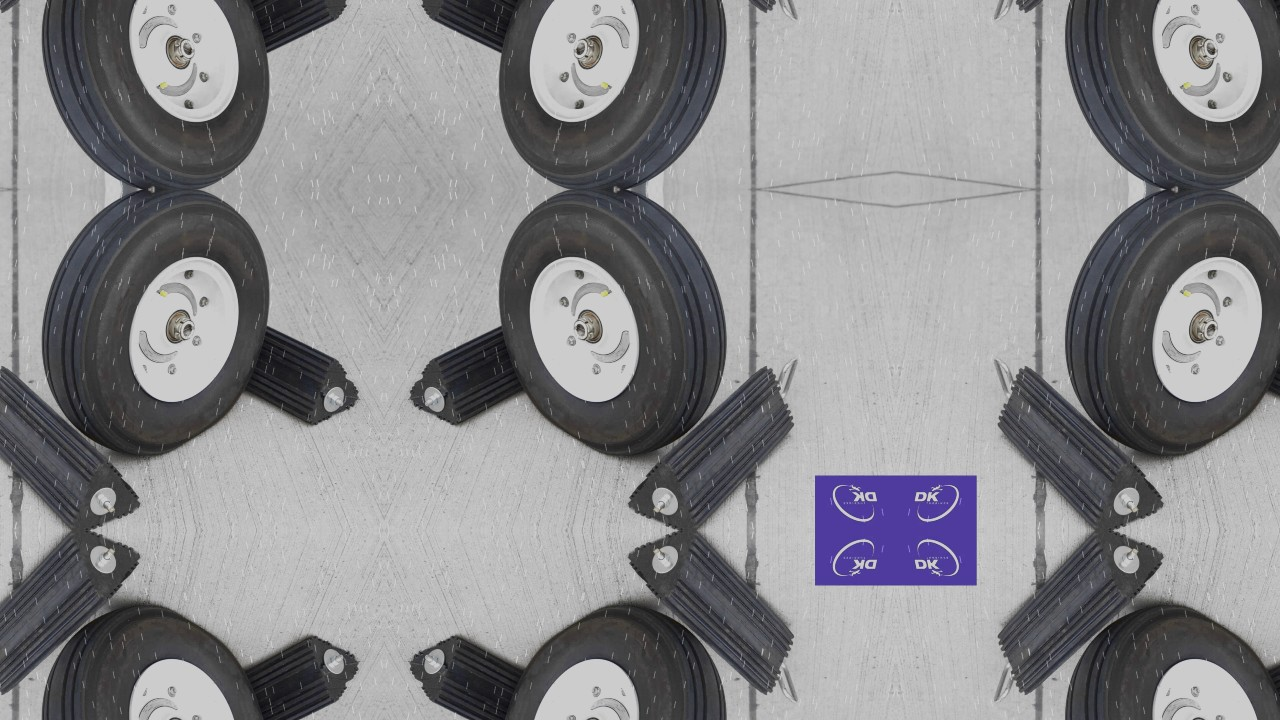chock: (627, 365, 795, 531), (997, 365, 1165, 531), (627, 531, 795, 696), (997, 531, 1165, 696), (0, 365, 141, 531), (0, 531, 141, 696), (200, 320, 360, 426), (408, 320, 568, 426), (200, 636, 360, 720), (408, 636, 568, 720), (200, 0, 360, 59), (408, 0, 568, 59), (1224, 320, 1280, 426), (1224, 636, 1280, 720), (1224, 0, 1280, 59), (627, 0, 795, 14), (997, 0, 1165, 14), (0, 0, 141, 14)
wheel: (40, 190, 271, 458), (497, 190, 728, 458), (1064, 190, 1280, 458), (40, 0, 271, 188), (497, 0, 728, 188), (1064, 0, 1280, 188), (40, 603, 271, 720), (497, 603, 728, 720), (1064, 603, 1280, 720)
